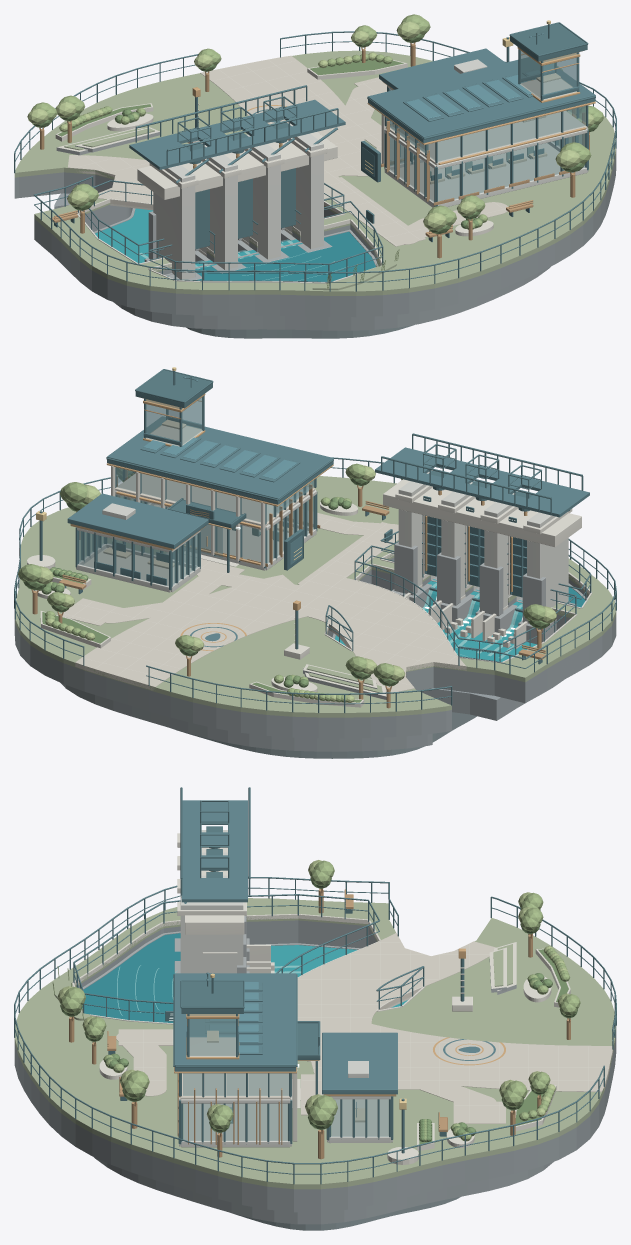
File: flood-control-g.glb
3 views of the same model, one above another, from view 1: azimuth 30°, elevation 25°; view 2: azimuth 150°, elevation 25°; view 3: azimuth 270°, elevation 25° (orthographic). The views are drawn at different scales.
Parts seen in each view (by area): view 1: Terrain_Foundation_Components__green, Terrain_Foundation_Components__rock, Terrain_Foundation_Components__floor, Triple_Sluice_Mechanics_Components__concrete, Command_Centre_Components__steel_lite, Walkways_Railings_Components__steel, Command_Centre_Components__glass2, Command_Centre_Components__floor, Triple_Sluice_Mechanics_Components__steel_lite, Command_Centre_Components__steel, Triple_Sluice_Mechanics_Components__steel, Hydraulic_Water_Components__water_upper (+28 smaller); view 2: Terrain_Foundation_Components__green, Terrain_Foundation_Components__floor, Terrain_Foundation_Components__rock, Command_Centre_Components__steel_lite, Walkways_Railings_Components__steel, Command_Centre_Components__steel, Command_Centre_Components__glass2, Triple_Sluice_Mechanics_Components__concrete2, Triple_Sluice_Mechanics_Components__concrete, Triple_Sluice_Mechanics_Components__steel_lite, Triple_Sluice_Mechanics_Components__concrete_shadow, Command_Centre_Components__floor (+26 smaller); view 3: Terrain_Foundation_Components__green, Terrain_Foundation_Components__floor, Terrain_Foundation_Components__rock, Command_Centre_Components__steel_lite, Walkways_Railings_Components__steel, Command_Centre_Components__floor, Command_Centre_Components__glass, Riparian_Landscape_Components__leaf2, Triple_Sluice_Mechanics_Components__steel_lite, Command_Centre_Components__steel, Hydraulic_Water_Components__water_upper, Triple_Sluice_Mechanics_Components__concrete (+19 smaller).
Boxes of the visible parts, x1,y1,x2,y2 form: Terrain_Foundation_Components__green: (14,50,616,295); Terrain_Foundation_Components__rock: (14,150,616,330); Terrain_Foundation_Components__floor: (67,55,507,246); Triple_Sluice_Mechanics_Components__concrete: (153,124,323,279); Command_Centre_Components__steel_lite: (368,48,595,143); Walkways_Railings_Components__steel: (14,31,616,291); Command_Centre_Components__glass2: (362,106,586,201); Command_Centre_Components__floor: (386,111,587,201); Triple_Sluice_Mechanics_Components__steel_lite: (129,99,345,183); Command_Centre_Components__steel: (367,23,595,206); Triple_Sluice_Mechanics_Components__steel: (135,85,338,261); Hydraulic_Water_Components__water_upper: (167,231,375,281); Terrain_Foundation_Components__green: (15,476,616,717); Terrain_Foundation_Components__floor: (62,508,466,692); Terrain_Foundation_Components__rock: (14,557,616,751); Command_Centre_Components__steel_lite: (67,416,333,585); Walkways_Railings_Components__steel: (14,444,616,713); Command_Centre_Components__steel: (75,370,333,590); Command_Centre_Components__glass2: (78,467,313,586); Triple_Sluice_Mechanics_Components__concrete2: (383,479,581,648); Triple_Sluice_Mechanics_Components__concrete: (398,470,568,607); Triple_Sluice_Mechanics_Components__steel_lite: (375,447,589,597); Triple_Sluice_Mechanics_Components__concrete_shadow: (392,542,575,644); Command_Centre_Components__floor: (83,473,314,585); Terrain_Foundation_Components__green: (14,898,616,1189); Terrain_Foundation_Components__floor: (116,932,612,1123); Terrain_Foundation_Components__rock: (14,920,616,1224); Command_Centre_Components__steel_lite: (174,973,397,1094); Walkways_Railings_Components__steel: (14,800,616,1184); Command_Centre_Components__floor: (180,1073,388,1140); Command_Centre_Components__glass: (183,1073,388,1140); Riparian_Landscape_Components__leaf2: (53,860,580,1141); Triple_Sluice_Mechanics_Components__steel_lite: (181,800,247,903); Command_Centre_Components__steel: (173,974,393,1144); Hydraulic_Water_Components__water_upper: (82,933,180,1022); Triple_Sluice_Mechanics_Components__concrete: (180,830,243,973).
Bounding box in the file's own units: 38.89 × 16.72 × 34.55.
